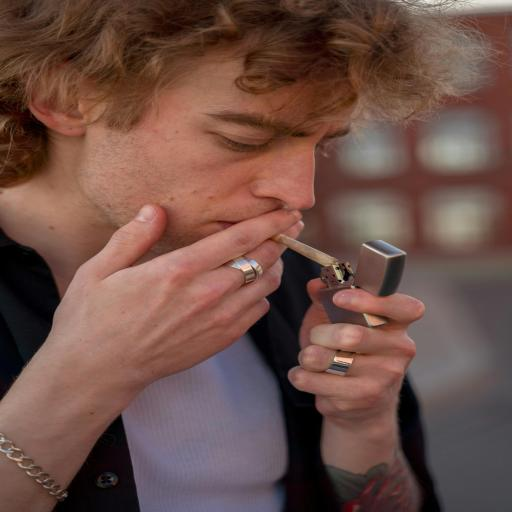lighter: (302, 234, 418, 336)
